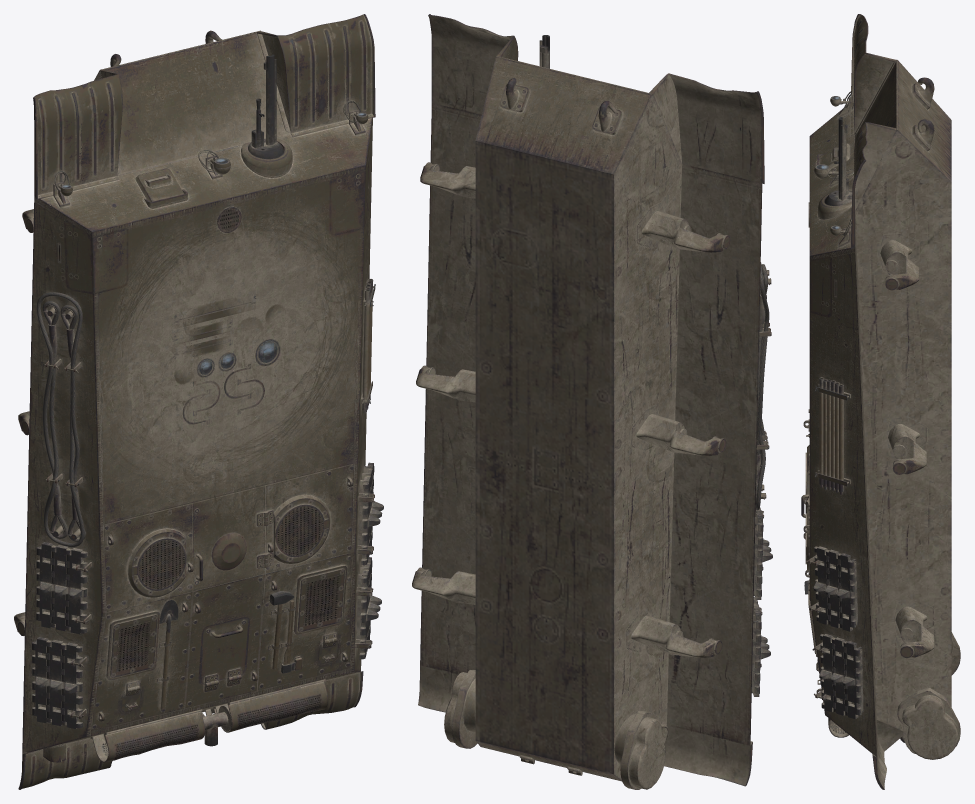
Rendered from Hull.glb.
The picture shows the model from 3 angles, left to right: view 1: azimuth 30°, elevation 25°; view 2: azimuth 150°, elevation 25°; view 3: azimuth 270°, elevation 25°; orthographic projection. The views are drawn at different scales.
Parts seen in each view (by area): view 1: set_0_group_0; view 2: set_0_group_0; view 3: set_0_group_0.
Part boxes in pixels (x1=…): set_0_group_0: x1=14, y1=14, x2=383, y2=789; set_0_group_0: x1=412, y1=14, x2=772, y2=789; set_0_group_0: x1=801, y1=14, x2=960, y2=789.
Size of the model in its own units: 3.27 by 6.36 by 1.45.
Materials: 1 (1 with a texture image).
